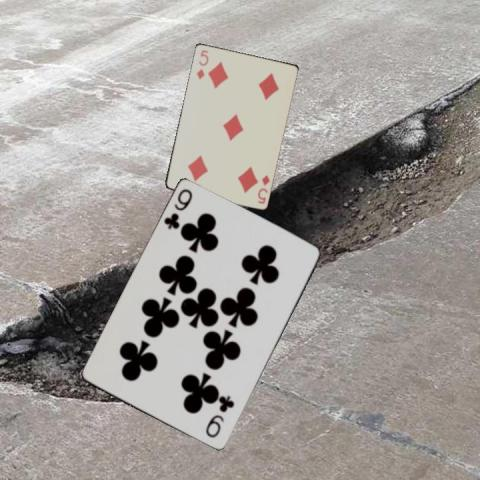5d: (194, 46, 210, 80), (254, 171, 270, 205)
9c: (203, 393, 236, 440), (161, 186, 194, 231)
